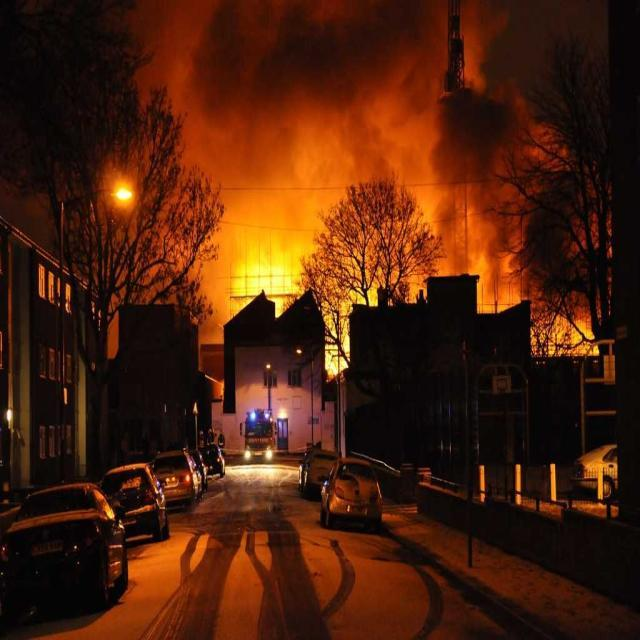Fire: (238, 230, 294, 292)
Smoke: (230, 20, 353, 113)
